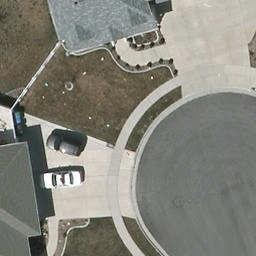car: (46, 134, 85, 158), (41, 168, 85, 187)
